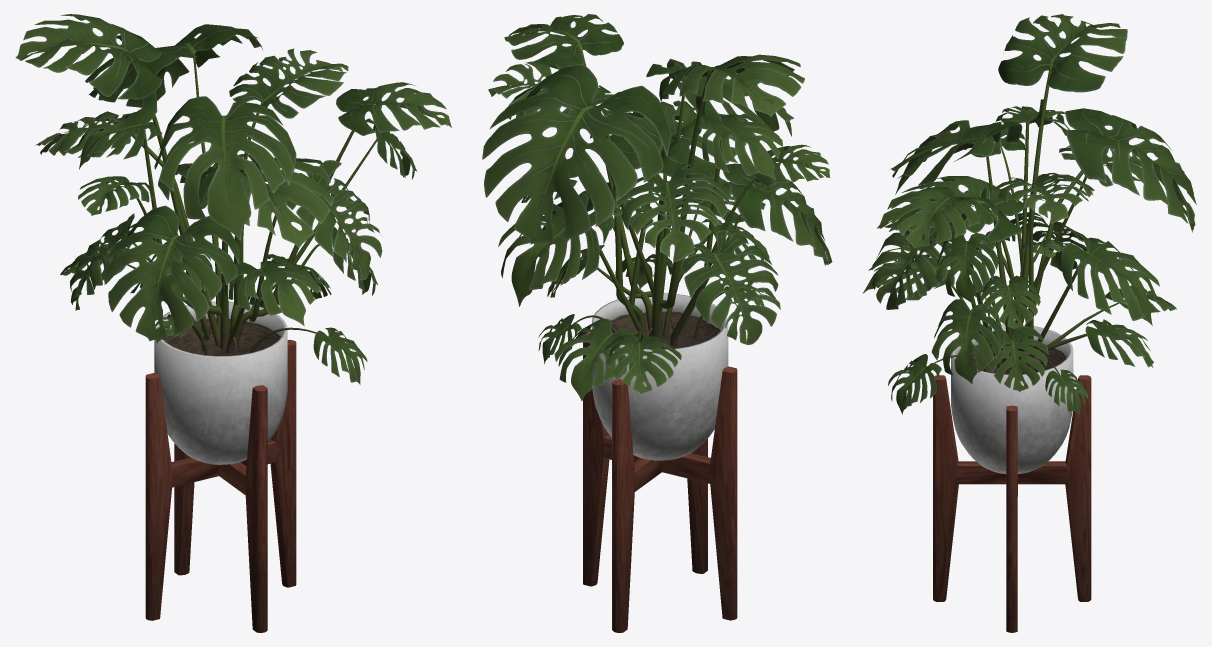
The model's file is houseplant.opt.glb.
The picture shows the model from 3 angles, left to right: view 1: azimuth 30°, elevation 25°; view 2: azimuth 150°, elevation 25°; view 3: azimuth 270°, elevation 25°; orthographic projection. The views are drawn at different scales.
Parts seen in each view (by area): view 1: Leaves, Stand, Pot_LP, root_HP_1_Mat.2_0; view 2: Leaves, Stand, Pot_LP, root_HP_1_Mat.2_0; view 3: Leaves, Stand, Pot_LP, root_HP_1_Mat.2_0.
Boxes of the visible parts, <box> form: Leaves: <box>15,14,451,384</box>; Stand: <box>145,339,296,632</box>; Pot_LP: <box>154,301,287,464</box>; root_HP_1_Mat.2_0: <box>124,53,376,355</box>; Leaves: <box>482,14,832,400</box>; Stand: <box>583,332,737,632</box>; Pot_LP: <box>592,293,728,460</box>; root_HP_1_Mat.2_0: <box>559,50,755,346</box>; Leaves: <box>862,14,1196,414</box>; Stand: <box>933,375,1091,632</box>; Pot_LP: <box>951,324,1073,473</box>; root_HP_1_Mat.2_0: <box>933,68,1119,375</box>.
Size of the model in its own units: 0.8695 by 1.36 by 0.7911.
3 materials, 3 textured.
